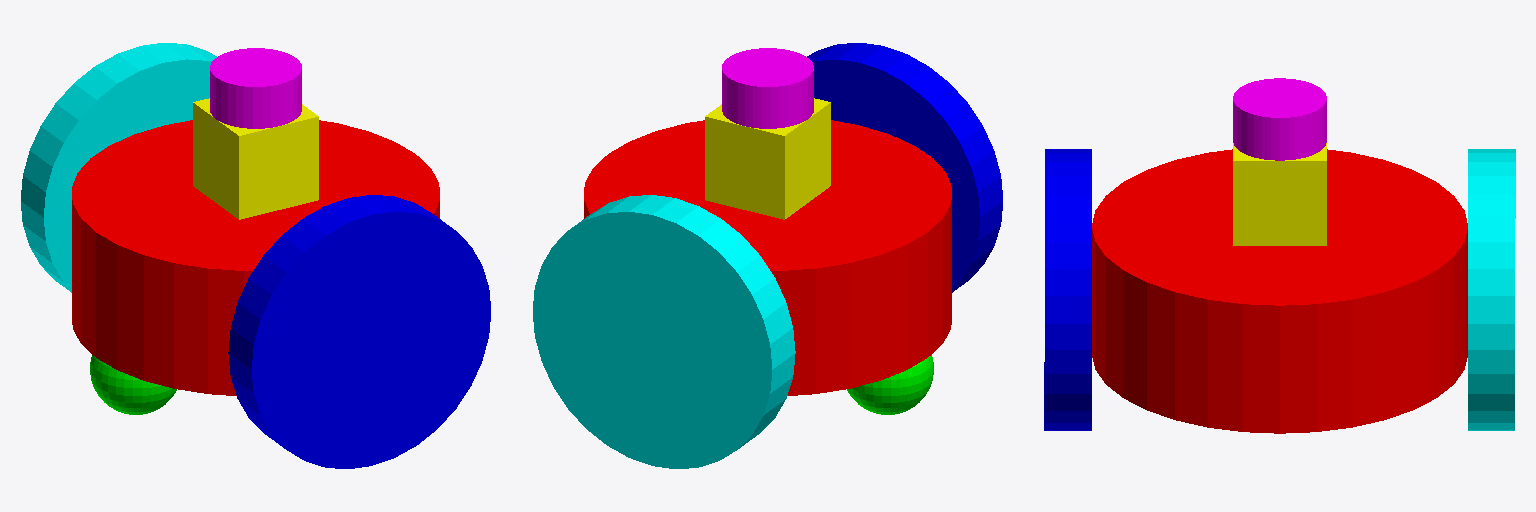
The robot description file, URDF, robot "diff_drive_robot":
<robot name="diff_drive_robot">
  <link name="base_link"/>

  <link name="body">
    <visual>
      <geometry>
        <cylinder radius="0.2" length="0.15"/>
      </geometry>
      <origin xyz="0 0 0" rpy="0 0 0"/>
      <material name="red">
        <color rgba="1.0 0.0 0.0 1.0"/>
      </material>
    </visual>
    <collision>
      <origin rpy="0 0 0" xyz="0 0 0.0"/>
      <geometry>
        <cylinder radius="0.2" length="0.15"/>]
      </geometry>
    </collision>
    <!--慣性-->
    <inertial>
        <mass value="1.0"/>
        <inertia ixx="0.011875000000000002" iyy="0.011875000000000002" izz="0.020000000000000004" ixy="0" ixz="0" iyz="0"/>
    </inertial>
  </link>

  <!-- タイヤの作成 -->
  <link name="wheel_left">
    <visual>
      <geometry>
        <cylinder radius="0.15" length="0.05"/>
      </geometry>
      <origin xyz="0 0 0" rpy="0 0 0"/>
      <material name="blue">
        <color rgba="0.0 0.0 1.0 1.0"/>
      </material>
    </visual>
    <collision>
      <origin rpy="0 0 0" xyz="0 0 0.0"/>
      <geometry>
        <cylinder radius="0.15" length="0.05"/>]
      </geometry>
    </collision>
    <!--慣性-->
    <inertial>
        <mass value="0.5"/>
        <inertia ixx="0.002916666666666667" iyy="0.002916666666666667" izz="0.005625" ixy="0" ixz="0" iyz="0"/>
    </inertial>
  </link>


  <!-- タイヤの作成 -->
  <link name="wheel_right">
    <visual>
      <geometry>
        <cylinder radius="0.15" length="0.05"/>
      </geometry>
      <origin xyz="0 0 0" rpy="0 0 0"/>
      <material name="cyan">
        <color rgba="0.0 1.0 1.0 1.0"/>
      </material>
    </visual>
    <collision>
      <origin rpy="0 0 0" xyz="0 0 0.0"/>
      <geometry>
        <cylinder radius="0.15" length="0.05"/>
      </geometry>
    </collision>
    <!--慣性-->
    <inertial>
        <mass value="0.5"/>
        <inertia ixx="0.002916666666666667" iyy="0.002916666666666667" izz="0.005625" ixy="0" ixz="0" iyz="0"/>
    </inertial>
  </link>


  <!-- キャスターの作成 -->
  <link name="caster_forward">
    <visual>
      <geometry>
        <sphere radius="0.05"/>
      </geometry>
      <origin xyz="0 0 0" rpy="0 0 0"/>
      <material name="green">
        <color rgba="0.0 1.0 0.0 1.0"/>
      </material>
    </visual>
    <collision>
      <origin rpy="0 0 0" xyz="0 0 0.0"/>
      <geometry>
        <sphere radius="0.05"/>
      </geometry>
    </collision>
    <!--慣性-->
    <inertial>
        <mass value="0.5"/>
        <inertia ixx="3.000e-4" iyy="3.000e-4" izz="3.000e-4" ixy="0" ixz="0" iyz="0"/>
    </inertial>
  </link>
  
  <!-- キャスターの作成 -->
  <!-- <link name="caster_backward">
    <visual>
      <geometry>
        <sphere radius="0.05"/>
      </geometry>
      <origin xyz="0 0 0" rpy="0 0 0"/>
      <material name="black">
        <color rgba="0.0 0.0 0.0 1.0"/>
      </material>
    </visual>
    <collision>
      <origin rpy="0 0 0" xyz="0 0 0.0"/>
      <geometry>
        <sphere radius="0.05"/>
      </geometry>
    </collision> -->
    <!--慣性-->
    <!-- <inertial>
        <mass value="0.5"/>
        <inertia ixx="3.000e-4" iyy="3.000e-4" izz="3.000e-4" ixy="0" ixz="0" iyz="0"/>
    </inertial>
  </link> -->

  <!-- Lidar台の作成 -->
  <link name="lidar_base">
    <visual>
      <geometry>
        <box size="0.1 0.1 0.1"/>
      </geometry>
      <origin xyz="0 0 0" rpy="0 0 0"/>
      <material name="yellow">
        <color rgba="1.0 1.0 0.0 1.0"/>
      </material>
    </visual>
    <collision>
      <origin rpy="0 0 0" xyz="0 0 0.0"/>
      <geometry>
        <box size="0.1 0.1 0.1"/>
      </geometry>
    </collision>
    <!--慣性-->
    <inertial>
        <mass value="0.15"/>
        <inertia ixx="0.25" iyy="0.25" izz="0.25" ixy="0" ixz="0" iyz="0"/>
    </inertial>
  </link>

  <!-- Lidarの作成 -->
  <link name="lidar_link">
    <visual>
      <geometry>
        <cylinder radius="0.05" length="0.05"/>
      </geometry>
      <origin xyz="0 0 0" rpy="0 0 0"/>
      <material name="purple">
        <color rgba="1.0 0.0 1.0 1.0"/>
      </material>
    </visual>
    <collision>
      <origin rpy="0 0 0" xyz="0 0 0.0"/>
      <geometry>
        <cylinder radius="0.05" length="0.05"/>
      </geometry>
    </collision>
    <!--慣性-->
    <inertial>
        <mass value="0.15"/>
        <inertia ixx="0.125" iyy="0.125" izz="0.188" ixy="0" ixz="0" iyz="0"/>
    </inertial>
  </link>
<!-- ################# ジョイント設定 ################## -->

	<joint name="base_joint" type="fixed">
    <origin xyz="0 0 0.15" rpy="0 0 0"/>
    <parent link="base_link"/>
    <child link="body"/>
 	</joint>

	<joint name="wheel_left_joint" type="continuous">
    <axis xyz="0 0 1"/>
    <origin xyz="0 -0.225 0" rpy="1.57 0 0"/>
    <parent link="body"/>
    <child link="wheel_left"/>
 	</joint>

	<joint name="wheel_right_joint" type="continuous">
    <axis xyz="0 0 1"/>
    <origin xyz="0 0.225 0" rpy="1.57 0 0"/>
    <parent link="body"/>
    <child link="wheel_right"/>
	</joint>

	<joint name="caster_forward_joint" type="fixed">
    <origin xyz="-0.15 0 -0.1" rpy="0 0 0"/>
    <parent link="body"/>
    <child link="caster_forward"/>
	</joint>

	<!-- <joint name="caster_backward_joint" type="fixed">
    <origin xyz="0.15 0 -0.1" rpy="0 0 0"/>
    <parent link="body"/>
    <child link="caster_backward"/>
	</joint> -->

	<joint name="lidar_base_joint" type="fixed">
    <origin xyz="0.0 0.0 0.125" rpy="0 0 0"/>
    <parent link="body"/>
    <child link="lidar_base"/>
	</joint>

	<joint name="lidar_joint" type="fixed">
    <origin xyz="0.0 0.0 0.2" rpy="0 0 0"/>
    <parent link="body"/>
    <child link="lidar_link"/>
	</joint>

</robot>

--- Facts derived from the render (not from the file) ---
Views: 3 orthographic renders of the robot side by side, from view 1: azimuth 30°, elevation 25°; view 2: azimuth 150°, elevation 25°; view 3: azimuth 270°, elevation 25°.
Robot: diff_drive_robot — 7 links, 6 joints (2 continuous, 4 fixed); root link base_link; default pose: every joint at zero.
Visible links, largest first — view 1: wheel_left, body, wheel_right, lidar_base, lidar_link, caster_forward; view 2: wheel_right, body, wheel_left, lidar_base, lidar_link, caster_forward; view 3: body, wheel_right, wheel_left, lidar_base, lidar_link.
Link boxes in pixels (x1=…): wheel_left: x1=228, y1=195, x2=490, y2=468; body: x1=72, y1=120, x2=439, y2=395; wheel_right: x1=21, y1=43, x2=216, y2=292; lidar_base: x1=193, y1=98, x2=318, y2=219; lidar_link: x1=210, y1=48, x2=301, y2=128; caster_forward: x1=90, y1=355, x2=176, y2=414; wheel_right: x1=533, y1=195, x2=795, y2=468; body: x1=584, y1=120, x2=951, y2=395; wheel_left: x1=807, y1=43, x2=1002, y2=292; lidar_base: x1=705, y1=98, x2=830, y2=219; lidar_link: x1=722, y1=48, x2=813, y2=128; caster_forward: x1=847, y1=355, x2=933, y2=414; body: x1=1092, y1=149, x2=1467, y2=433; wheel_right: x1=1468, y1=149, x2=1515, y2=430; wheel_left: x1=1044, y1=149, x2=1091, y2=430; lidar_base: x1=1233, y1=143, x2=1326, y2=245; lidar_link: x1=1233, y1=78, x2=1326, y2=160.
Bounding box of the posed robot: 0.4 × 0.5002 × 0.375 m (x, y, z).
Geometry: primitives only (box / cylinder / sphere), no mesh files.
